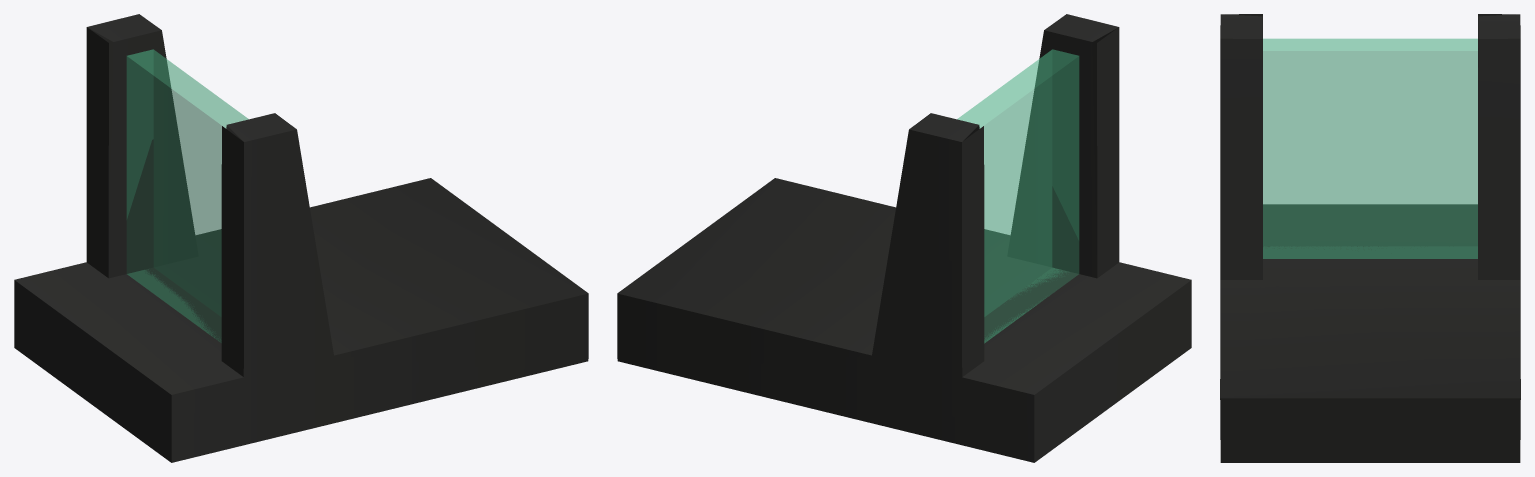
File: ReflexA_mesh.fbx
3 renders of one model, left to right at view 1: azimuth 30°, elevation 25°; view 2: azimuth 150°, elevation 25°; view 3: azimuth 270°, elevation 25°, orthographic. The views are drawn at different scales.
Parts seen in each view (by area): view 1: ReflexA_mesh; view 2: ReflexA_mesh; view 3: ReflexA_mesh.
Part boxes in pixels (x1=…): ReflexA_mesh: x1=14, y1=14, x2=588, y2=462; ReflexA_mesh: x1=617, y1=14, x2=1191, y2=462; ReflexA_mesh: x1=1220, y1=14, x2=1520, y2=462.
Bounding box in the file's own units: 4.4 × 3.06 × 2.89.
Materials: 2 (1 with a texture image).
